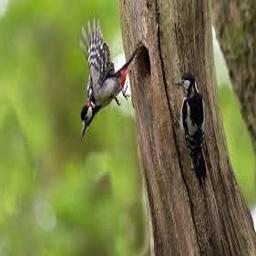Woodpecker: (81, 18, 138, 135), (174, 72, 207, 185)
